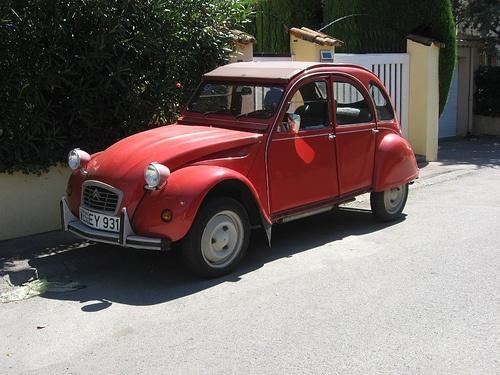car: (61, 61, 421, 282)
